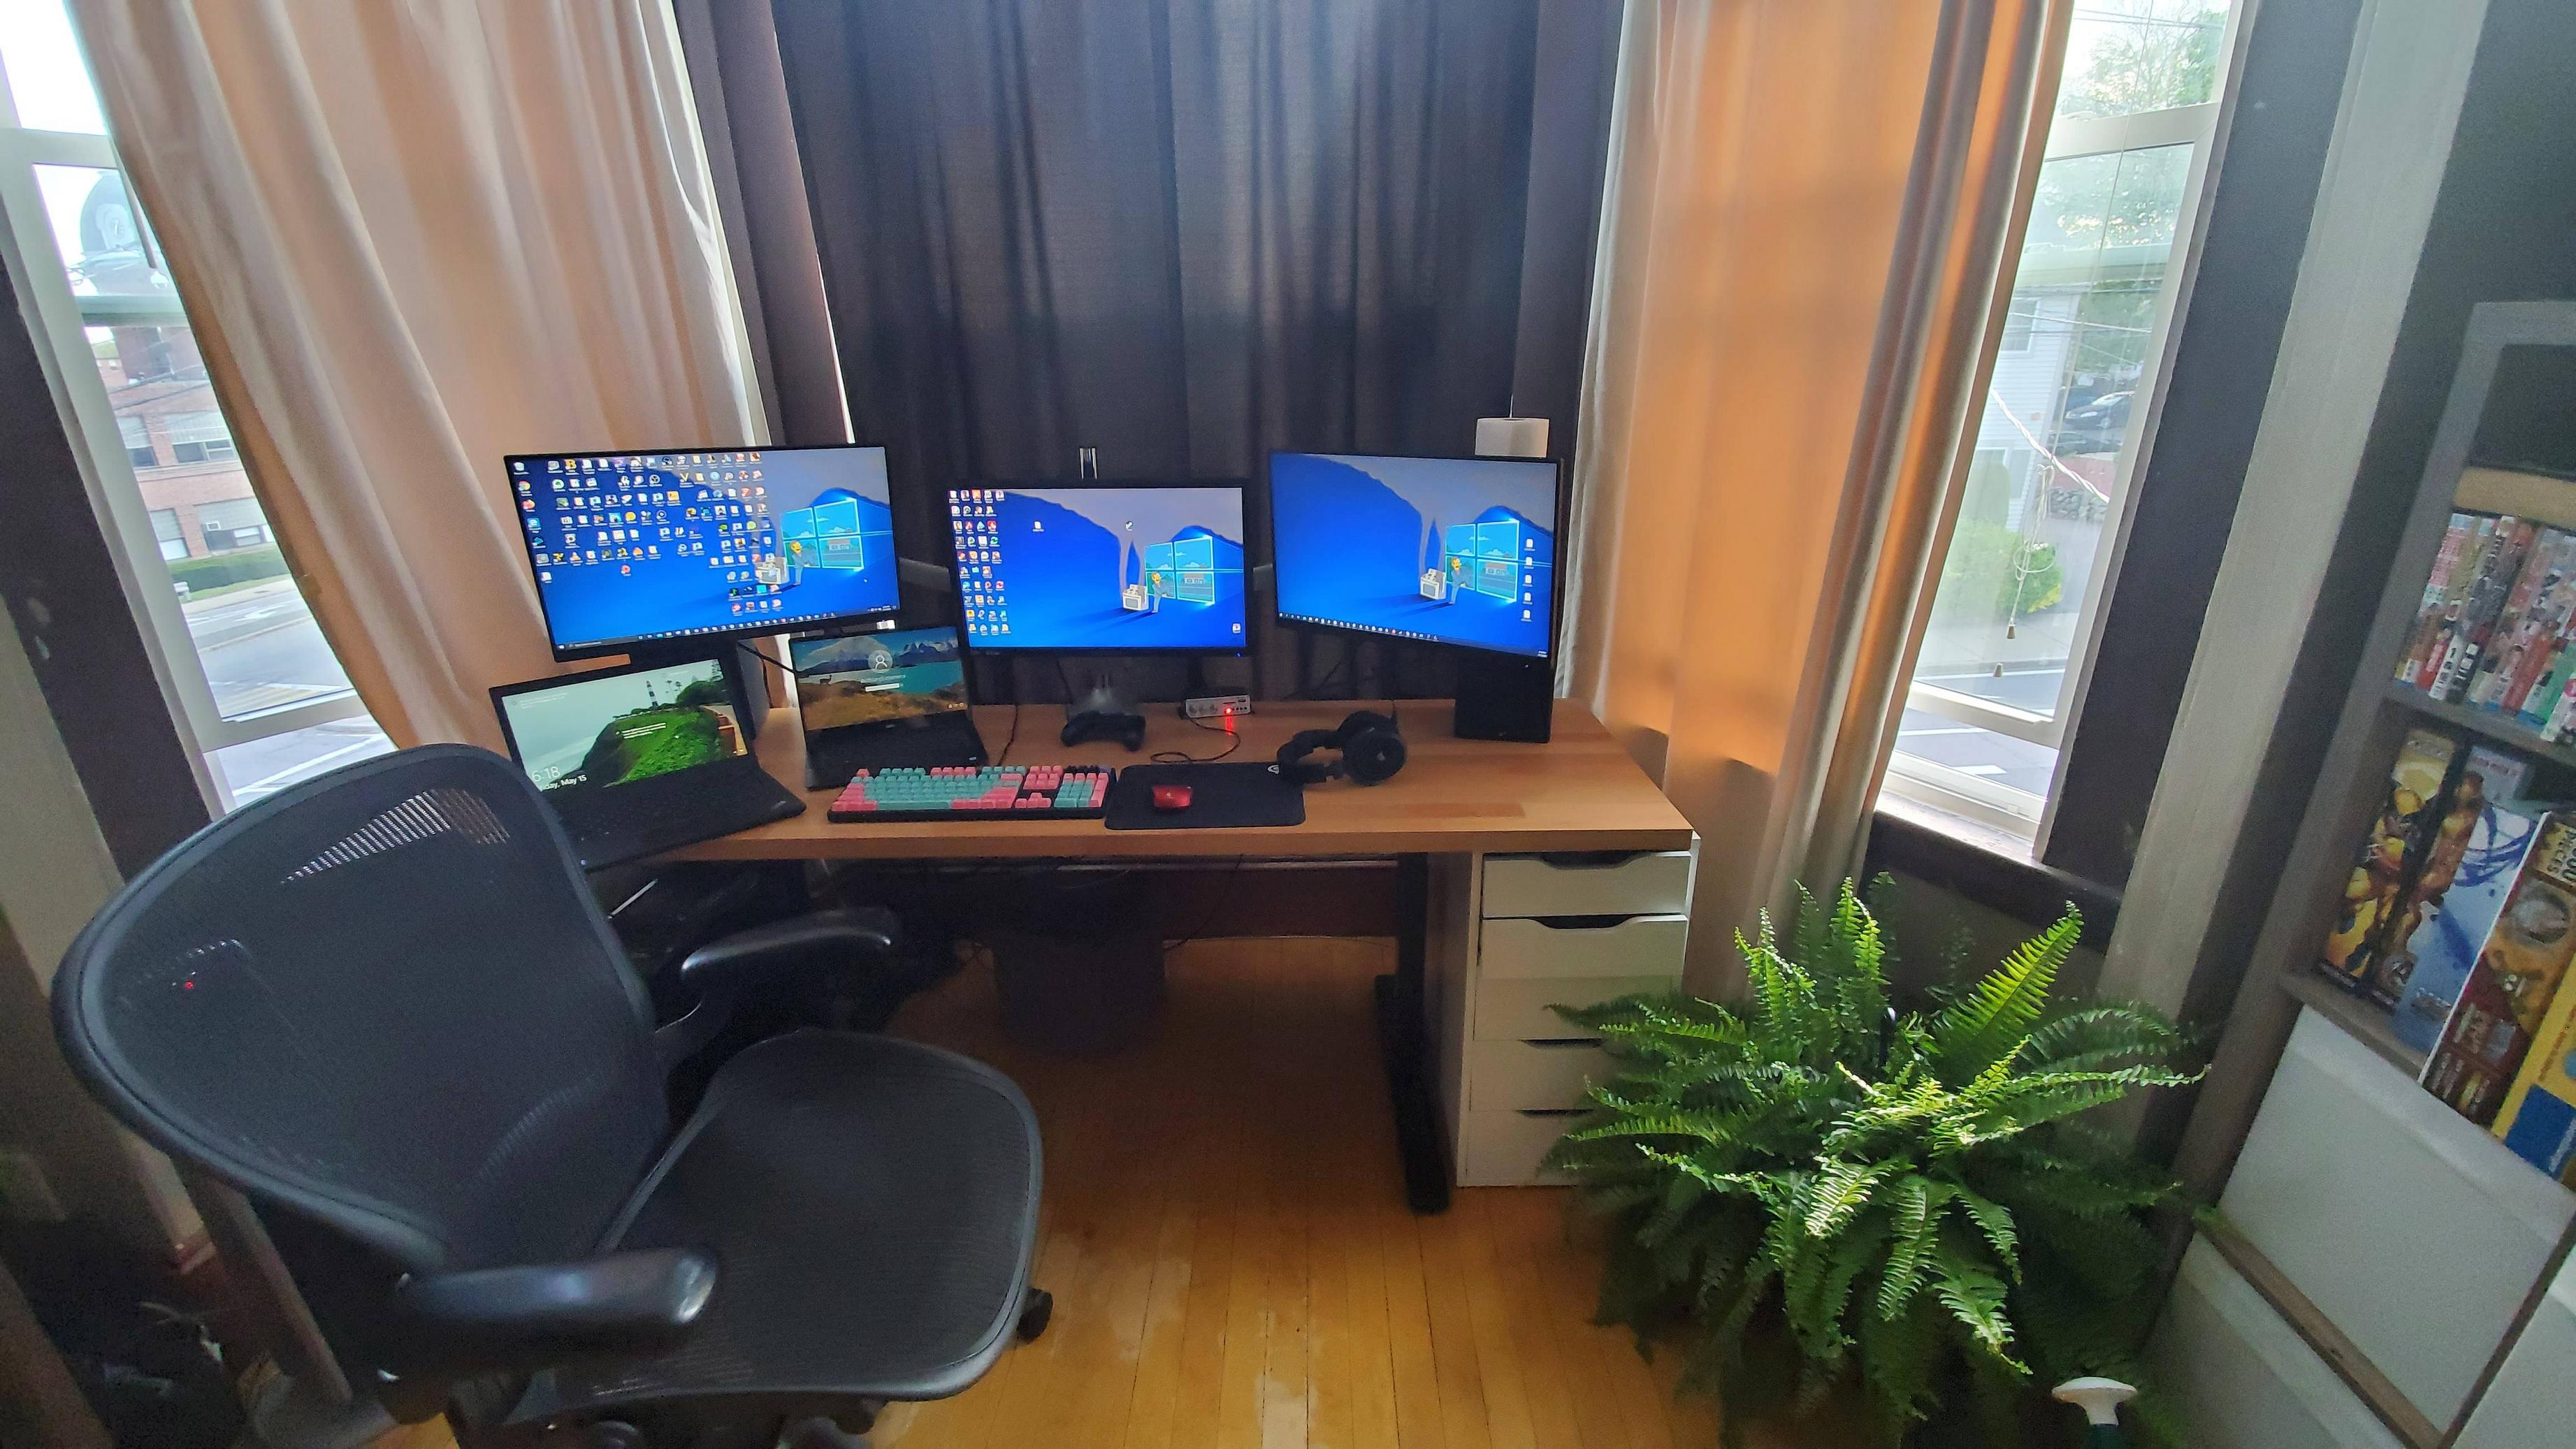Book: (2312, 495, 2576, 1185)
Chair (Generic): (41, 741, 1046, 1449)
Decoration (Plant): (1550, 876, 2210, 1438)
Desk (Generic): (596, 709, 1702, 1184)
External Sound Card (Pre-amplifier): (1184, 685, 1251, 720)
Gaming Controller: (1060, 709, 1146, 750)
Headphones: (1274, 711, 1408, 786)
Keyboard (Generic): (826, 764, 1118, 823)
Laptop (Windows): (488, 655, 807, 874), (789, 623, 987, 791)
Monitor (Landscape): (499, 442, 906, 663), (1267, 446, 1566, 671), (939, 476, 1254, 660)
Mouse (Generic): (1150, 784, 1196, 810)
Mousepad (Generic): (1104, 761, 1306, 832)
Storage Drawer: (1435, 847, 1693, 1187)
